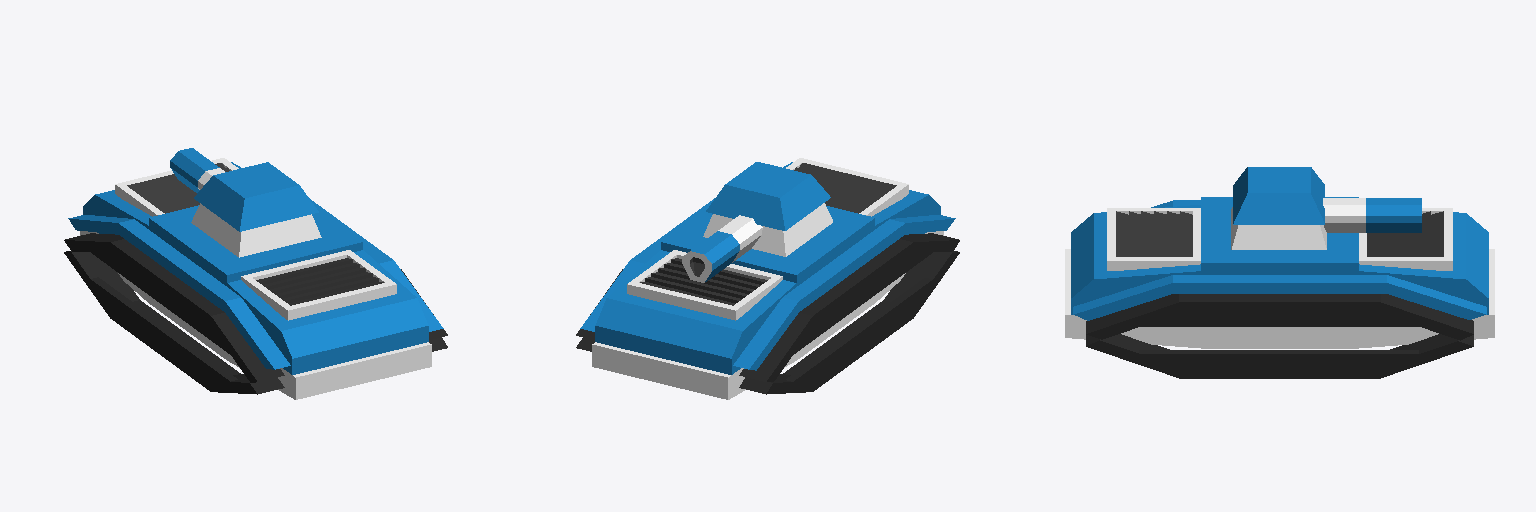
File: Tank01.obj
3 views of the same model, side by side, from view 1: azimuth 30°, elevation 25°; view 2: azimuth 150°, elevation 25°; view 3: azimuth 270°, elevation 25° (orthographic).
Parts seen in each view (by area): view 1: Tank01; view 2: Tank01; view 3: Tank01.
Part boxes in pixels (left/top/right/bottom): Tank01: left=64, top=148, right=447, bottom=399; Tank01: left=576, top=158, right=959, bottom=399; Tank01: left=1065, top=167, right=1494, bottom=378.
Bounding box in the file's own units: 1.4 × 1.07 × 2.74.